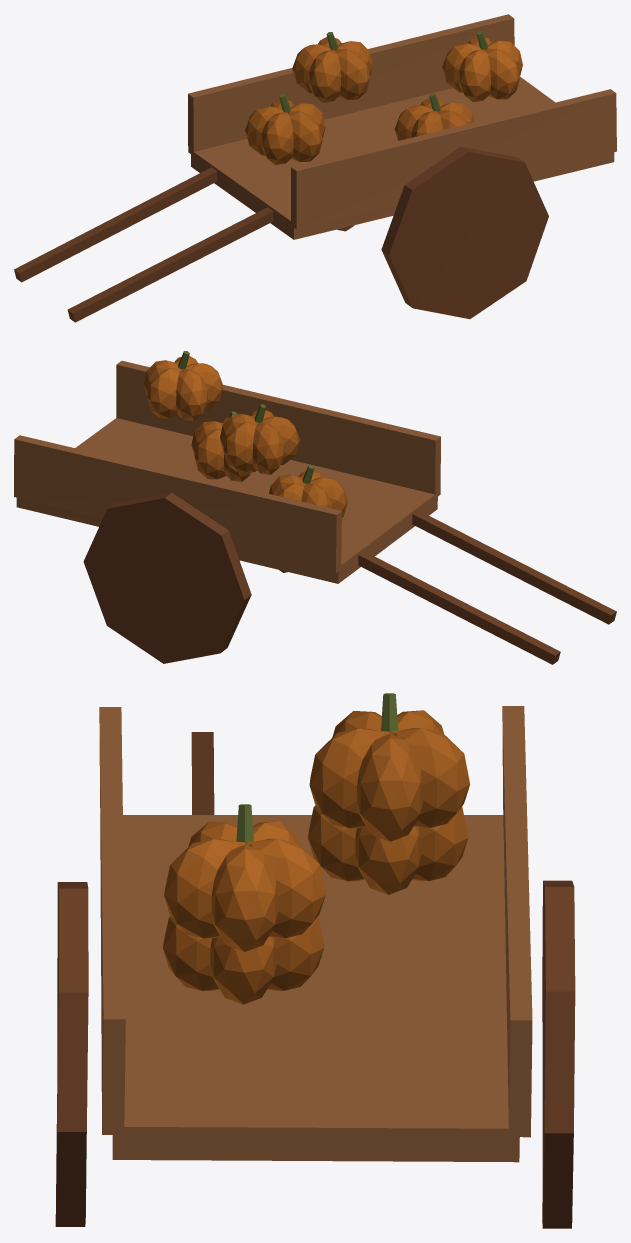
Rendered from cart-pumpkins.glb.
3 views of the same model, one above another, from view 1: azimuth 30°, elevation 25°; view 2: azimuth 150°, elevation 25°; view 3: azimuth 270°, elevation 25° (orthographic). The views are drawn at different scales.
Visible parts, largest first — view 1: props/cart-pumpkins; view 2: props/cart-pumpkins; view 3: props/cart-pumpkins.
Boxes of the visible parts, x1,y1,x2,y2 form: props/cart-pumpkins: (14,14,616,322); props/cart-pumpkins: (14,351,616,664); props/cart-pumpkins: (55,693,575,1228).
Bounding box in the file's own units: 3.25 × 1.43 × 1.41.
